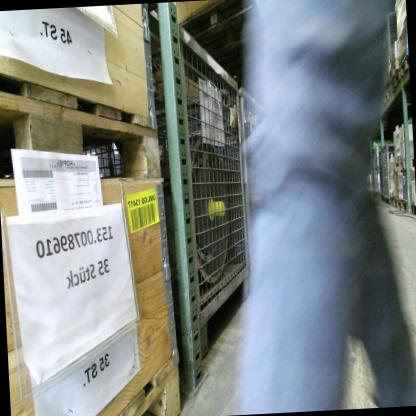pallet: (0, 55, 167, 203), (169, 4, 275, 63), (106, 350, 182, 416), (386, 53, 401, 82), (389, 68, 404, 94), (394, 156, 414, 172), (395, 197, 409, 214), (376, 93, 388, 112), (400, 57, 409, 81), (384, 86, 394, 104), (389, 193, 398, 210), (410, 202, 416, 215)
stillage: (139, 10, 256, 344), (156, 84, 286, 334), (379, 5, 405, 92), (380, 140, 400, 204), (368, 151, 376, 205), (378, 145, 385, 201)
